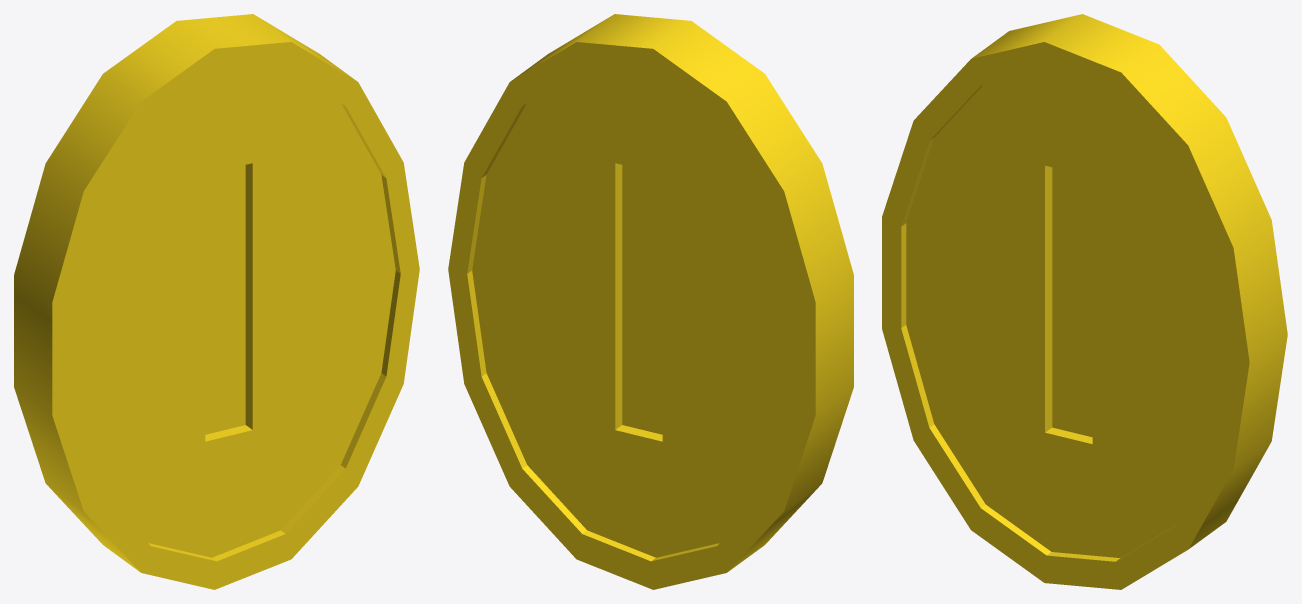
The model's file is Coin.obj.
3 views of the same model, side by side, from view 1: azimuth 30°, elevation 25°; view 2: azimuth 150°, elevation 25°; view 3: azimuth 330°, elevation 25° (orthographic).
Parts seen in each view (by area): view 1: Coin:polySurface1; view 2: Coin:polySurface1; view 3: Coin:polySurface1.
Boxes of the visible parts, x1,y1,x2,y2 form: Coin:polySurface1: [14, 14, 419, 589]; Coin:polySurface1: [448, 14, 853, 589]; Coin:polySurface1: [882, 14, 1287, 589].
Size of the model in its own units: 0.2746 by 0.3864 by 0.0494.
Materials: 1 (1 with a texture image).
